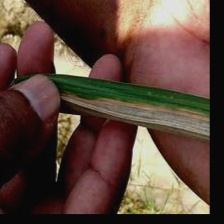Leaf_Blast: (27, 101, 201, 130)
